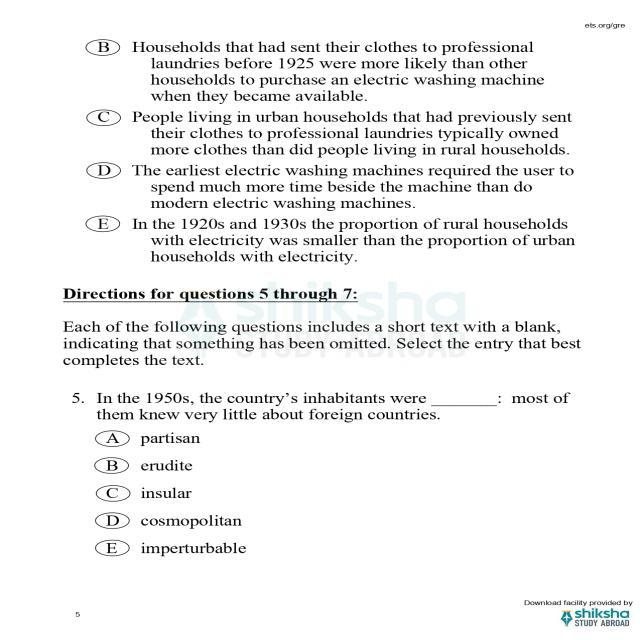Answer_Block: (29, 426, 640, 578)
Instruction: (29, 31, 640, 378)
Question_Answer_Block: (29, 381, 640, 578)
Question_Block: (29, 382, 640, 426)
Question_Paper_Area: (29, 31, 640, 578)
